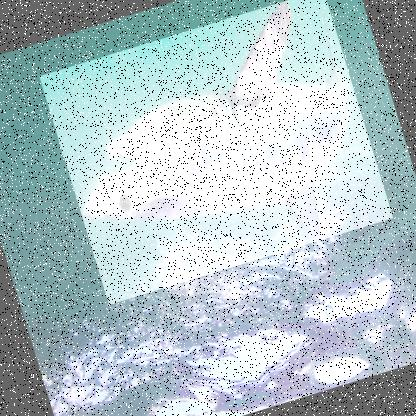mako-shark: (38, 0, 394, 305)
